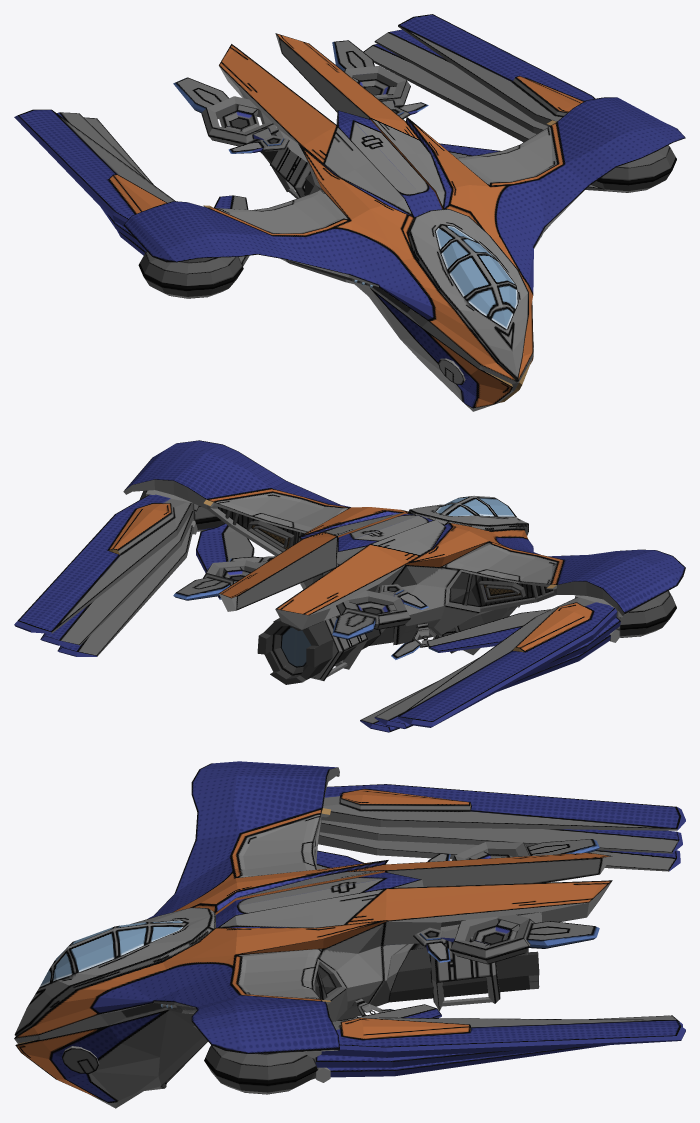
The model's file is Milano.fbx.
3 views of the same model, one above another, from view 1: azimuth 30°, elevation 25°; view 2: azimuth 150°, elevation 25°; view 3: azimuth 270°, elevation 25° (orthographic). The views are drawn at different scales.
Visible parts, largest first — view 1: Milano; view 2: Milano; view 3: Milano.
Part boxes in pixels (x1,y1,x2,y2): Milano: (14, 14, 685, 411); Milano: (14, 440, 685, 732); Milano: (14, 761, 685, 1108).
Size of the model in its own units: 357 by 138 by 350.
1 material, 1 textured.
